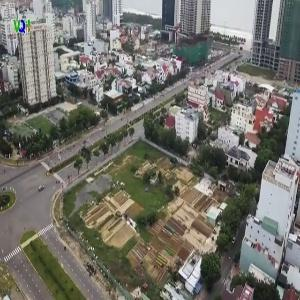drone: (63, 128, 114, 179)
